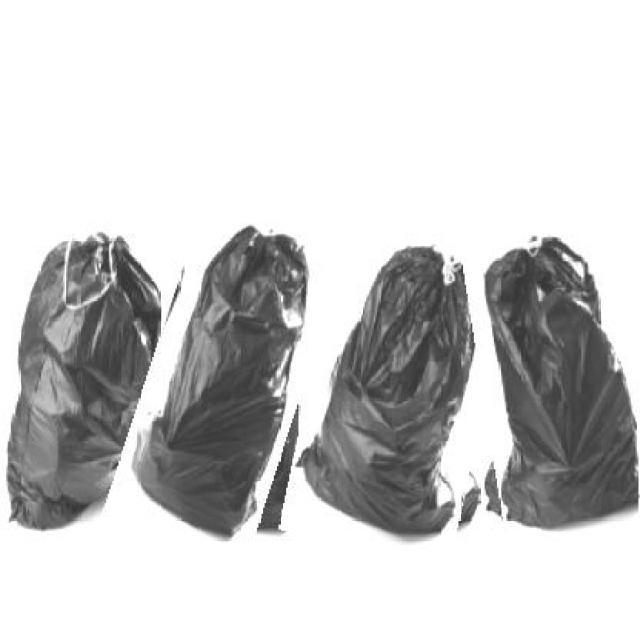waste: (130, 159, 336, 558), (295, 196, 503, 558), (6, 154, 163, 543), (470, 205, 638, 558)
